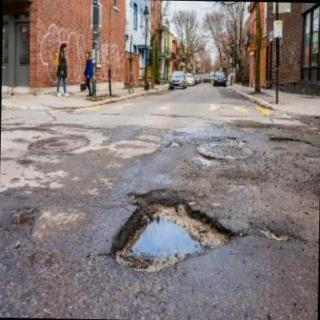pothole: (112, 189, 295, 272)
